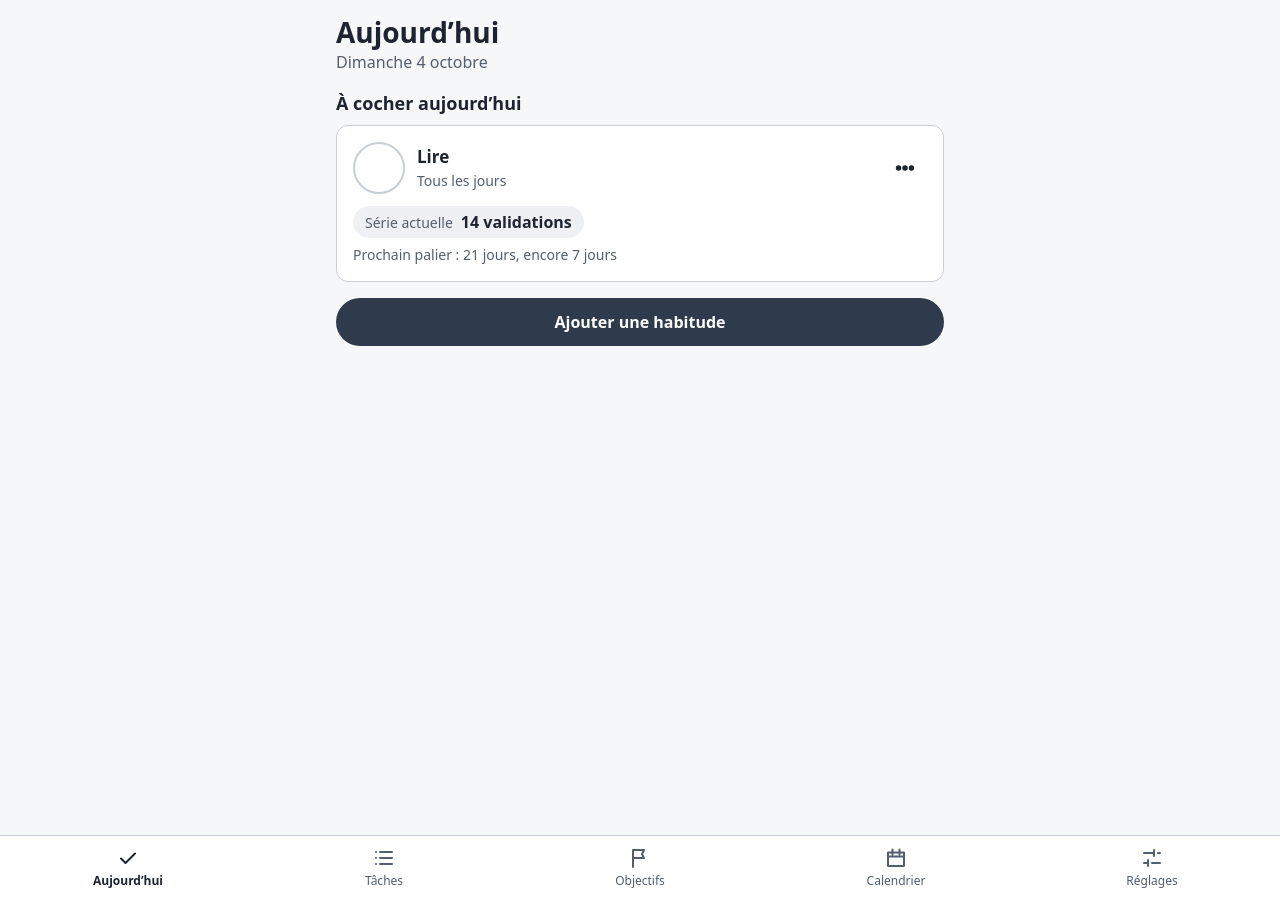
habitudes › demande confirmation avant un changement de fréquence
The image size is (1280, 900).
Check: the heading "Aujourd’hui" is shown, box [336,13,499,51]
Click the button named "Gérer « Lire »".
click(905, 168)  # box [883,146,927,190]
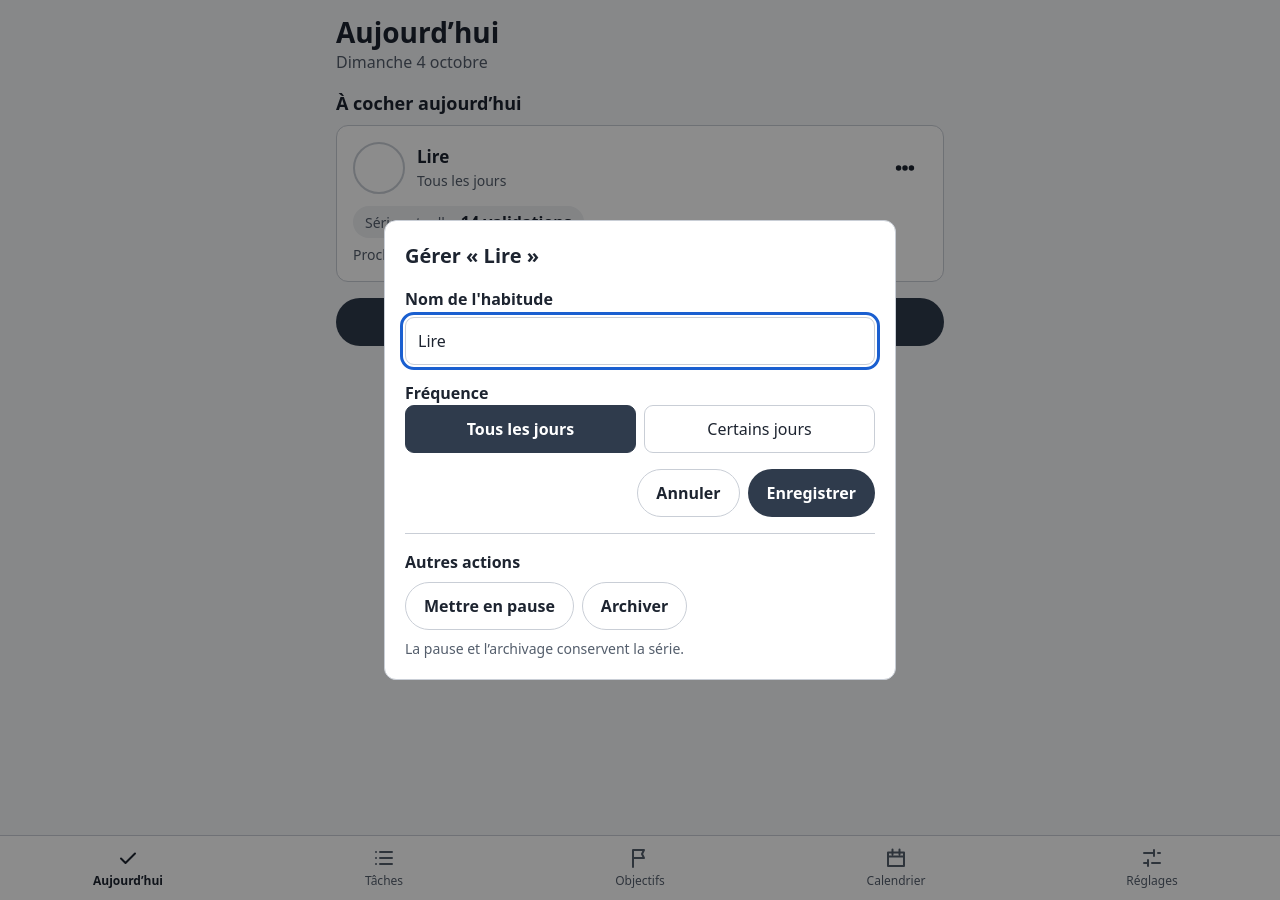
Click the radio button labelled "Certains jours".
click(760, 429)  # box [644,405,875,453]
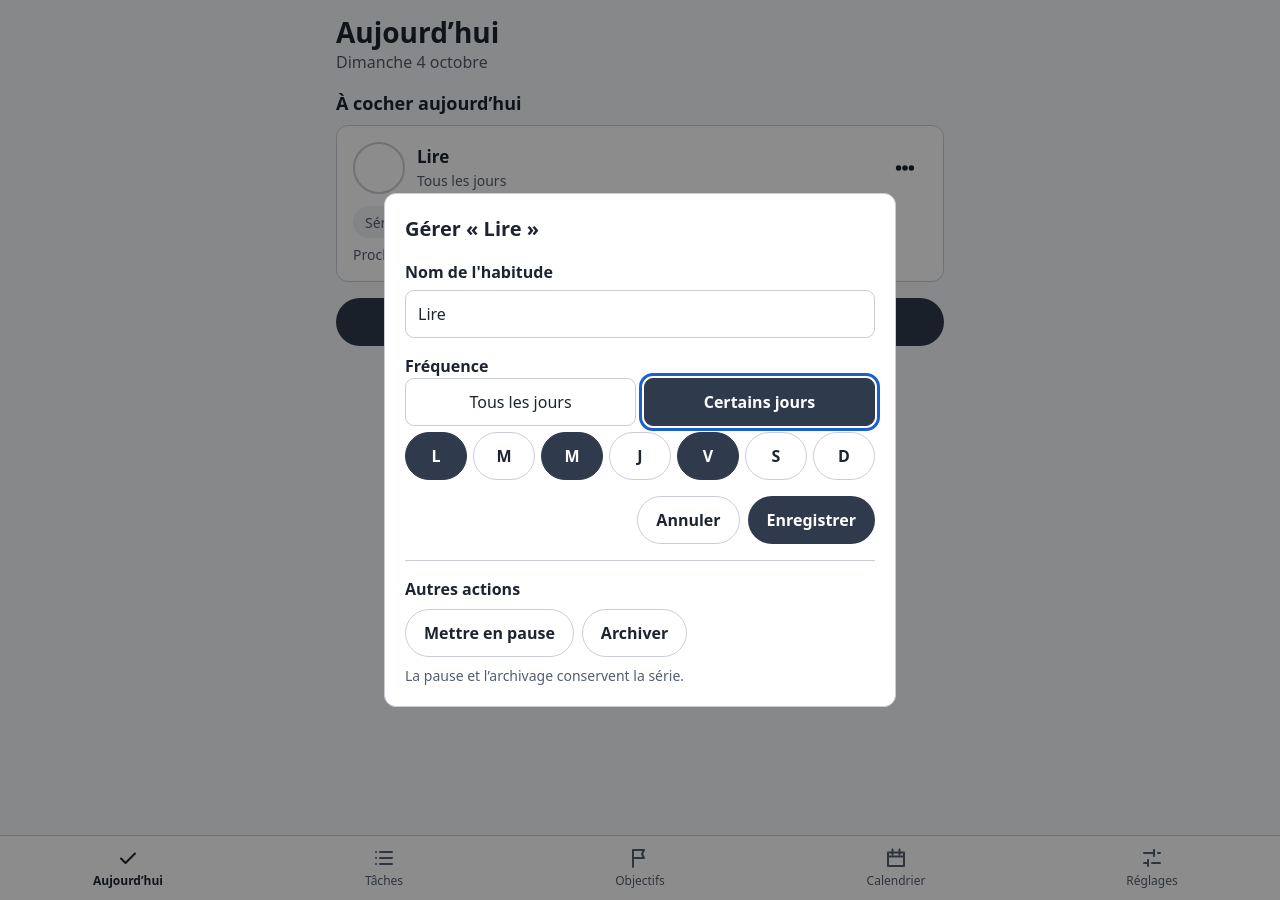
Click the button "Enregistrer".
click(811, 520)  # box [748,496,875,544]
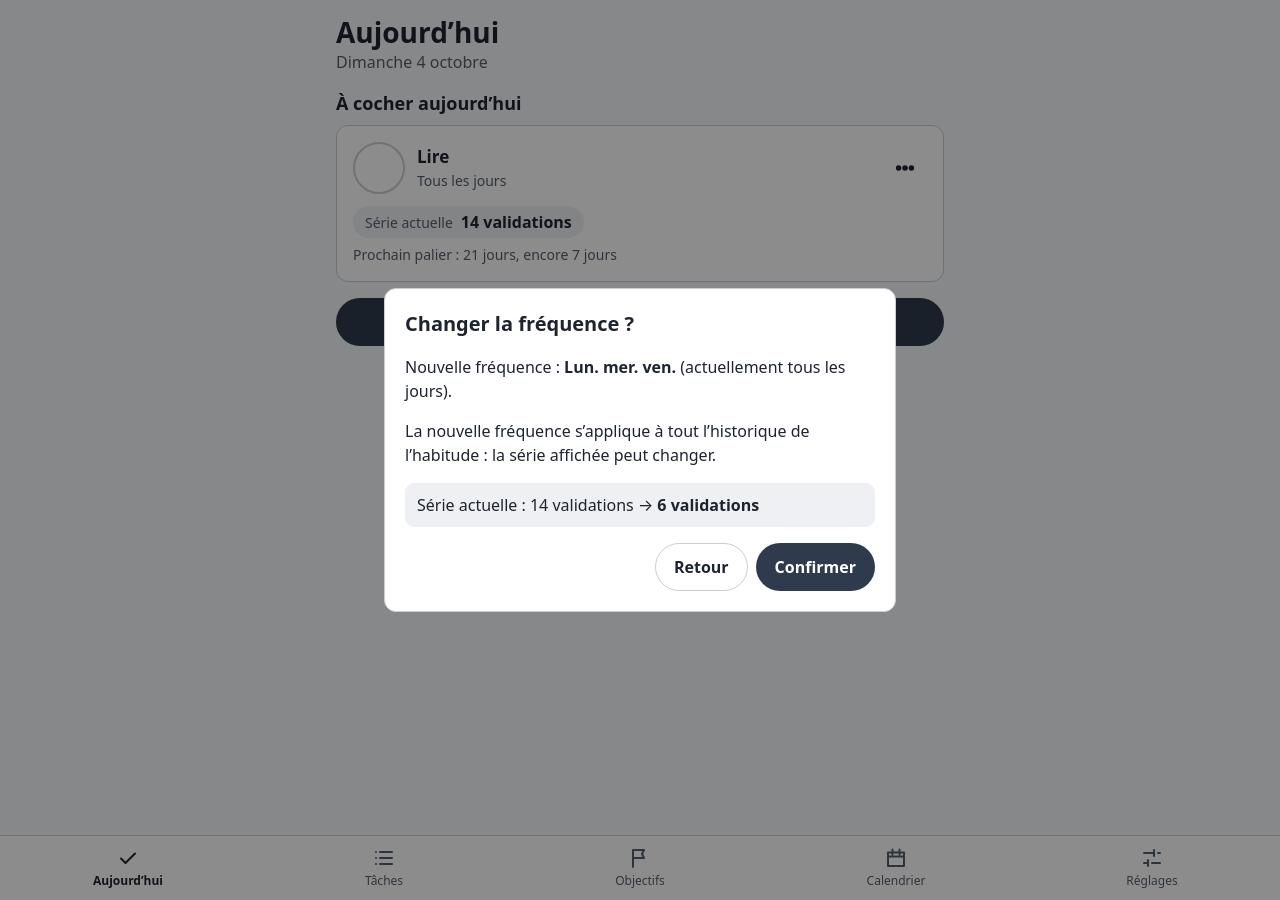
Check: the text "la série affichée peut changer" is shown, box [405,420,810,466]
Check: the text "Série actuelle : 14 validations → 6 validations" is shown, box [405,483,875,527]
Check: the text "6 validations" is shown, box [657,494,759,516]
Click the button "Confirmer".
click(815, 567)  # box [756,543,875,591]
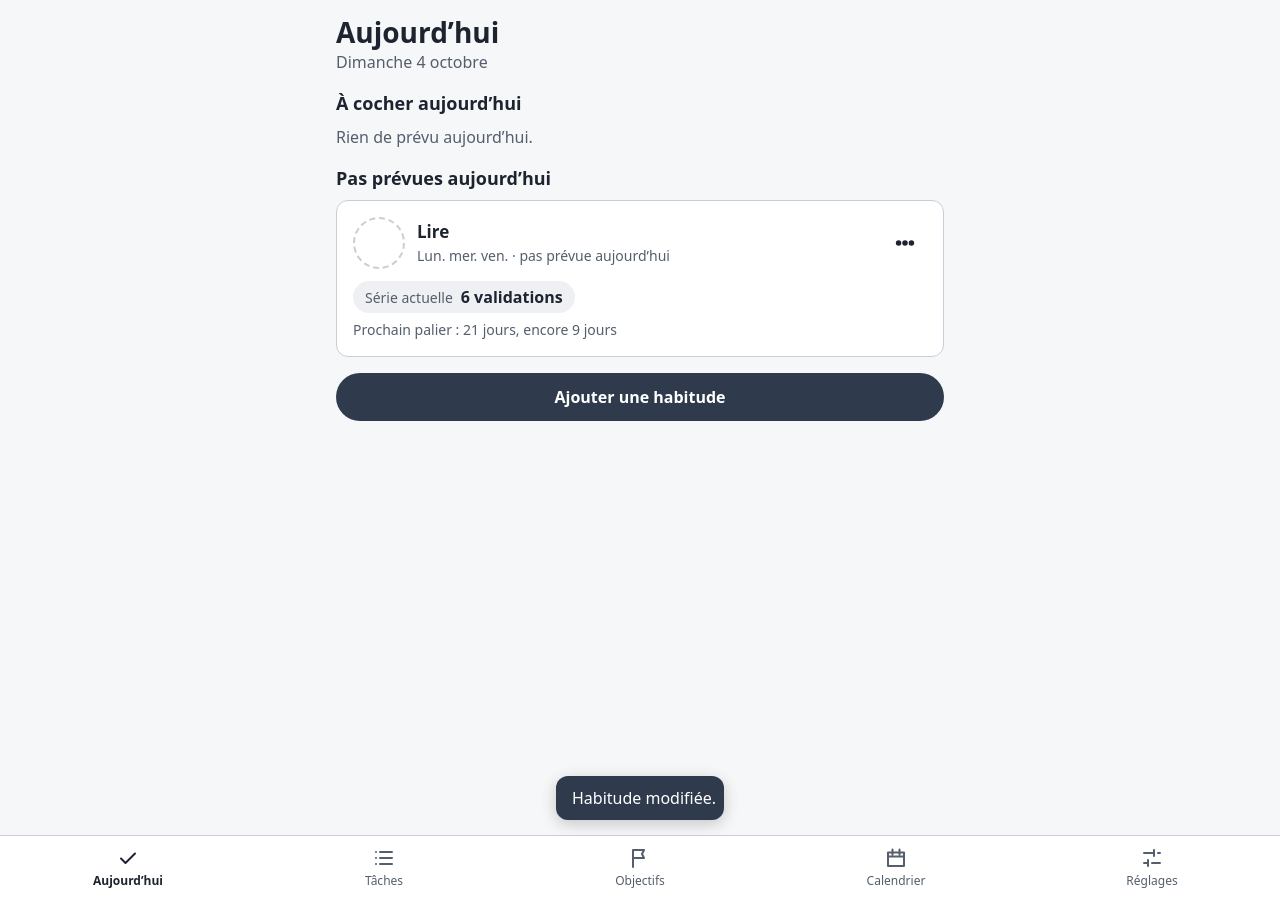
Check: the text "Lun. mer. ven. · pas prévue aujourd’hui" is shown, box [417,246,670,265]
